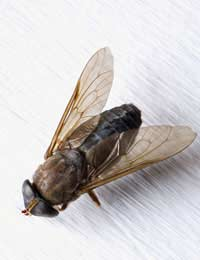house fly: (14, 45, 197, 221)
